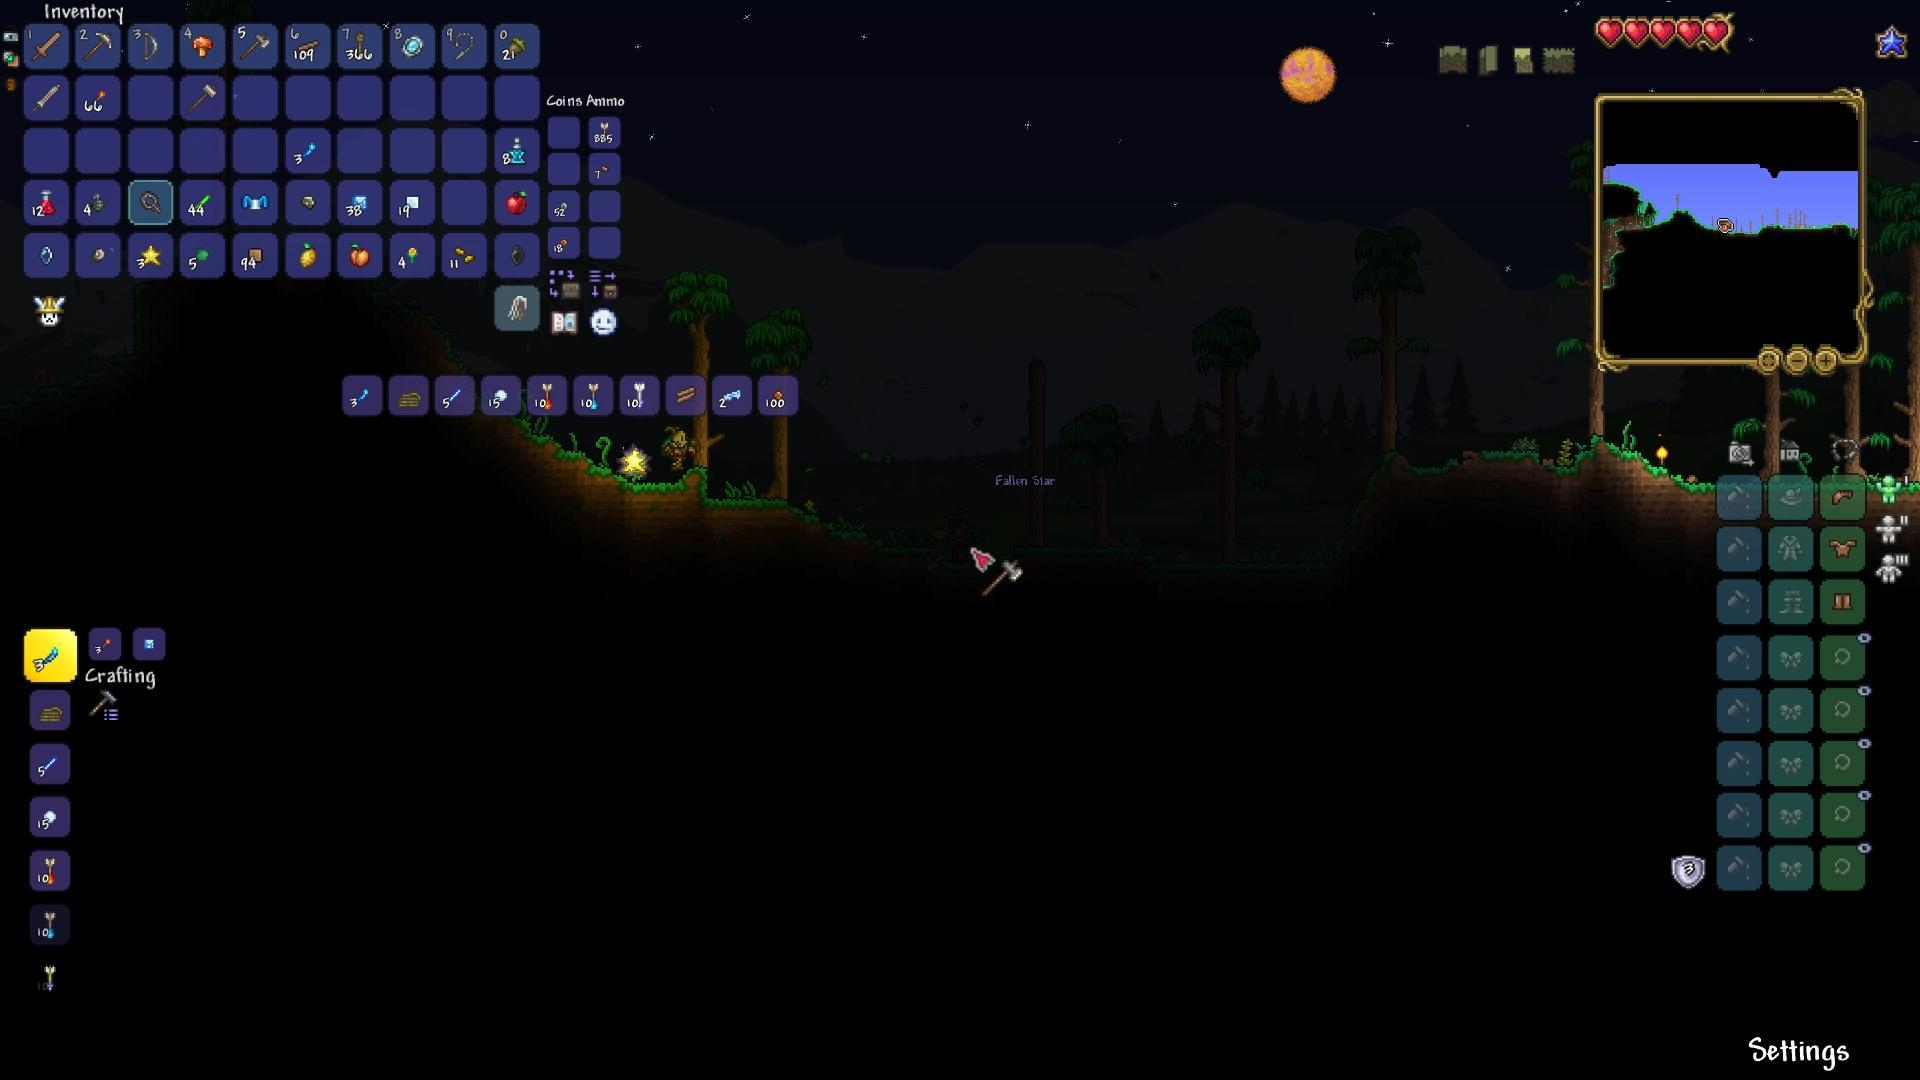grenade: (84, 191, 109, 215)
potion: (37, 185, 57, 222)
recallP: (508, 133, 526, 162)
star: (620, 447, 649, 479)
